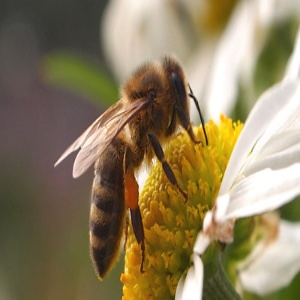bee: (52, 53, 209, 287)
